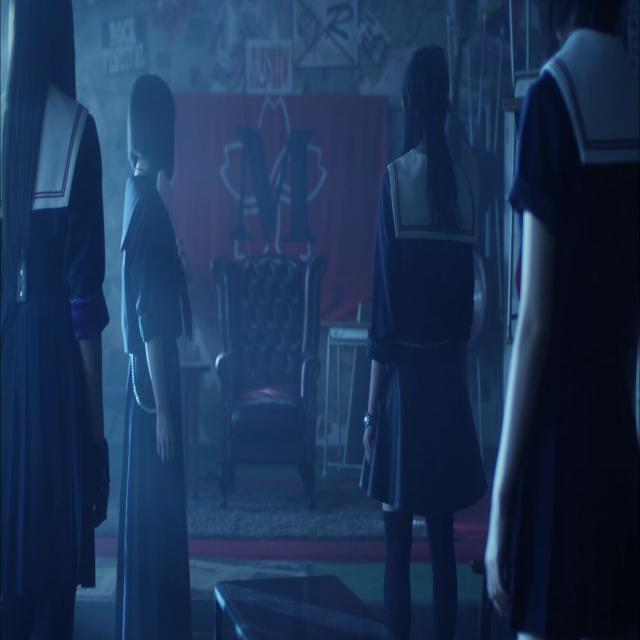People: (0, 0, 116, 640), (527, 0, 640, 640), (384, 3, 486, 629), (107, 57, 209, 640)
Table: (325, 291, 381, 499), (164, 324, 212, 523)
chair: (213, 228, 337, 508)
